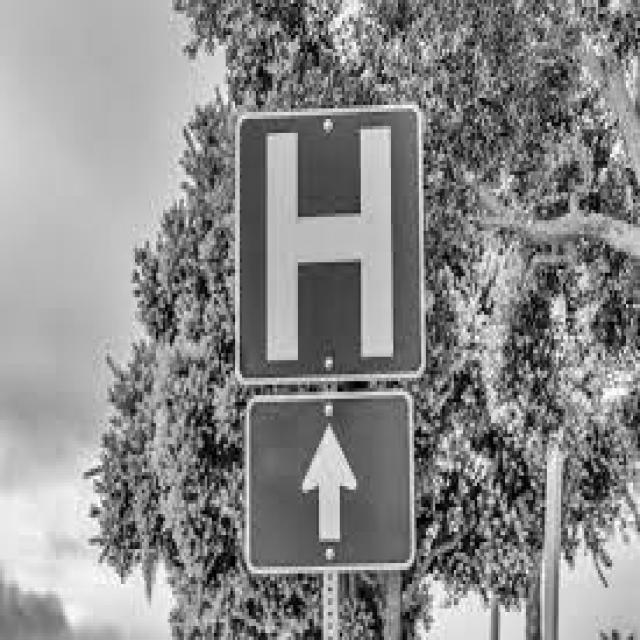hospital ahead: (236, 111, 424, 381)
